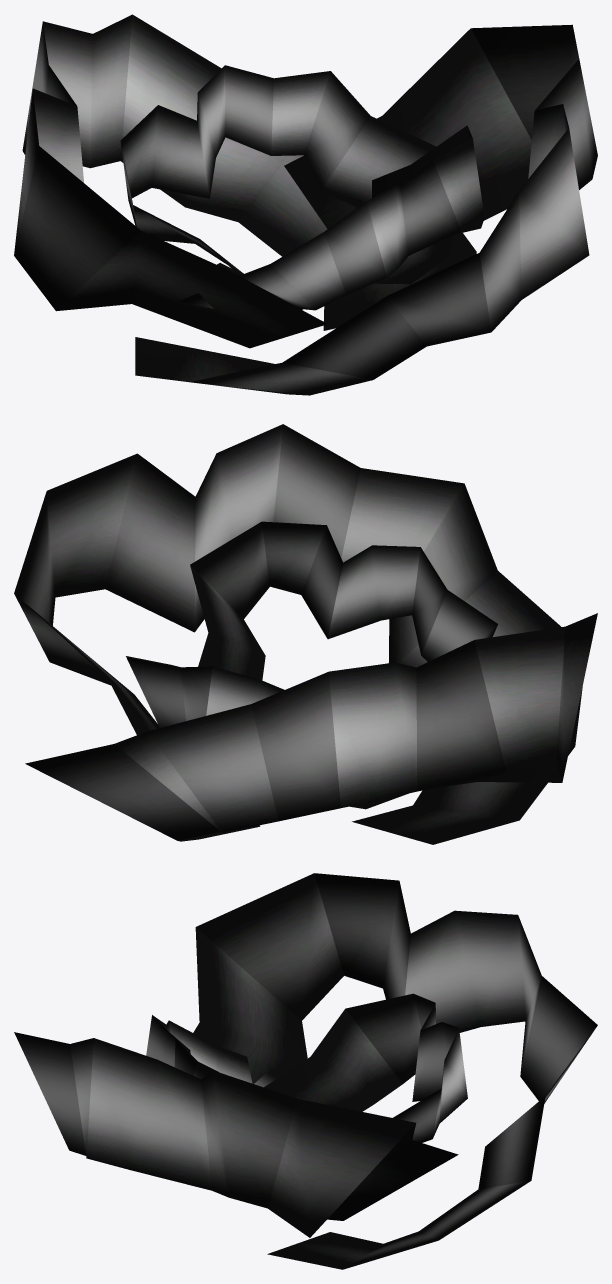
File: vfx_kurp_0307.dae
The picture shows the model from 3 angles, top to bottom: view 1: azimuth 30°, elevation 25°; view 2: azimuth 150°, elevation 25°; view 3: azimuth 270°, elevation 25°; orthographic projection. The views are drawn at different scales.
Visible parts, largest first — view 1: vfx_kurp_0307; view 2: vfx_kurp_0307; view 3: vfx_kurp_0307.
Part boxes in pixels (x1,y1,x2,y2): vfx_kurp_0307: (14,14,597,395); vfx_kurp_0307: (14,424,597,844); vfx_kurp_0307: (14,873,597,1269).
Size of the model in its own units: 10.15 by 10.76 by 4.94.
Materials: 1 (1 with a texture image).
